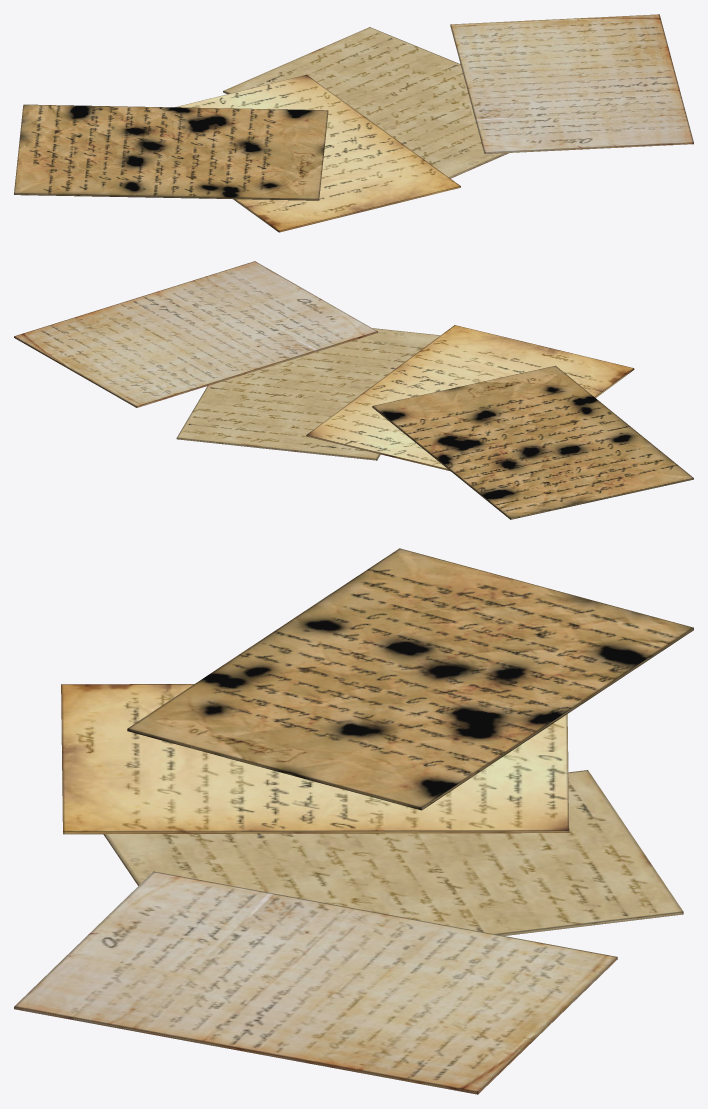
Rendered from PapersPuzzle1.fbx.
3 views of the same model, one above another, from view 1: azimuth 30°, elevation 25°; view 2: azimuth 150°, elevation 25°; view 3: azimuth 270°, elevation 25° (orthographic). The views are drawn at different scales.
Parts seen in each view (by area): view 1: pCube5; view 2: pCube5; view 3: pCube5.
Boxes of the visible parts, x1,y1,x2,y2 form: pCube5: (14, 14, 693, 232); pCube5: (14, 261, 693, 519); pCube5: (14, 548, 693, 1094).
Bounding box in the file's own units: 2.17 × 0.017 × 1.15.
